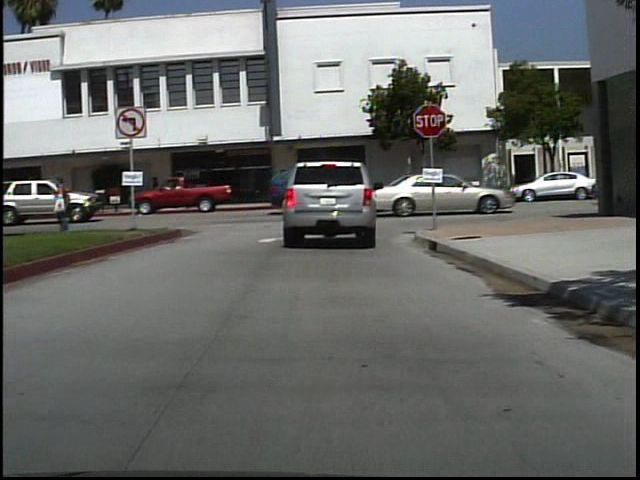person: (48, 173, 84, 235), (282, 161, 311, 235), (148, 172, 171, 211), (167, 173, 186, 209)
